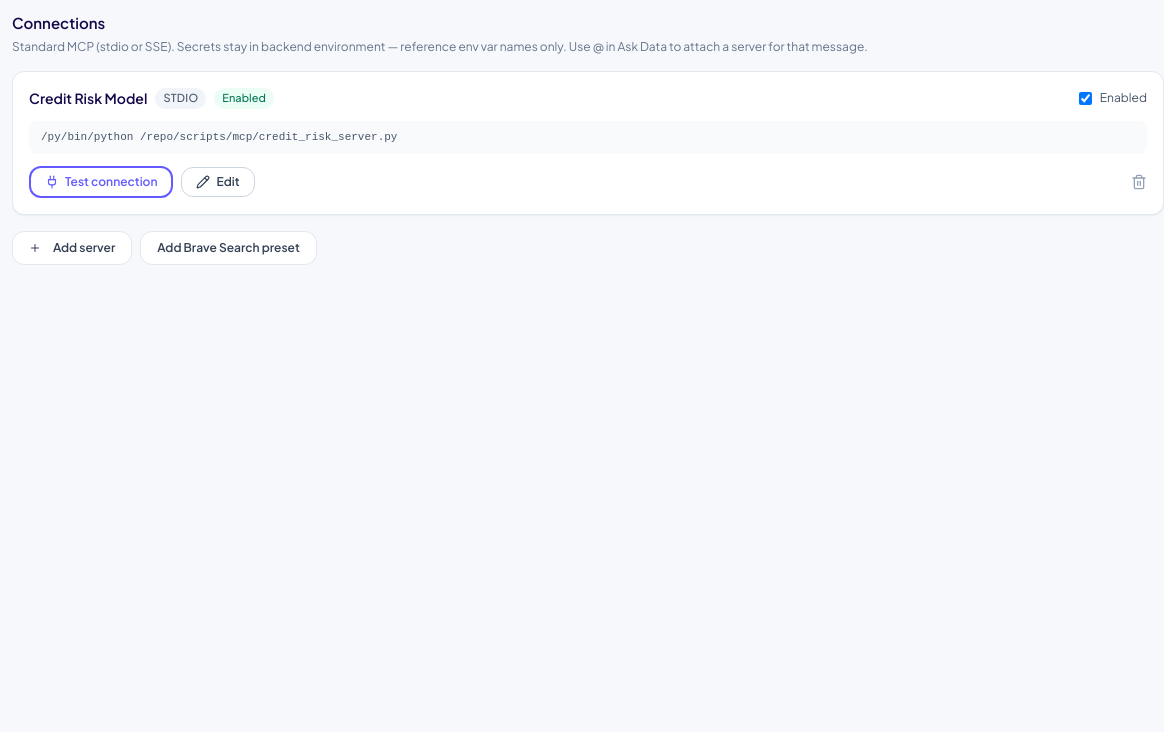
AskDataMcpSettingsPanel › cancel discards unsaved edits
The width and height of the screenshot is (1164, 732).
Expected: the element with test id "mcp-server-card" is shown, [12,71,1163,215]
Click the button "Edit". click: [218, 182]
box: [182,167,255,197]
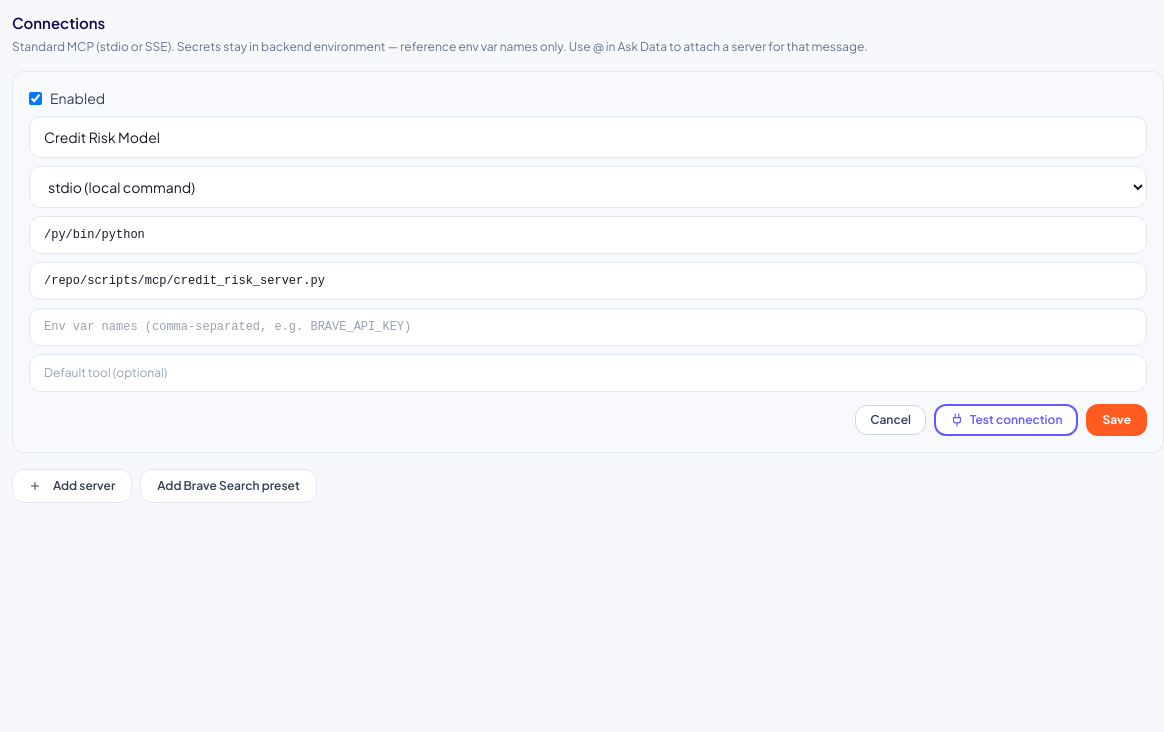
Replace the text in the 1st field with placeholder "Display name" with "Changed". click: [588, 137]
box: [29,116,1147,158]
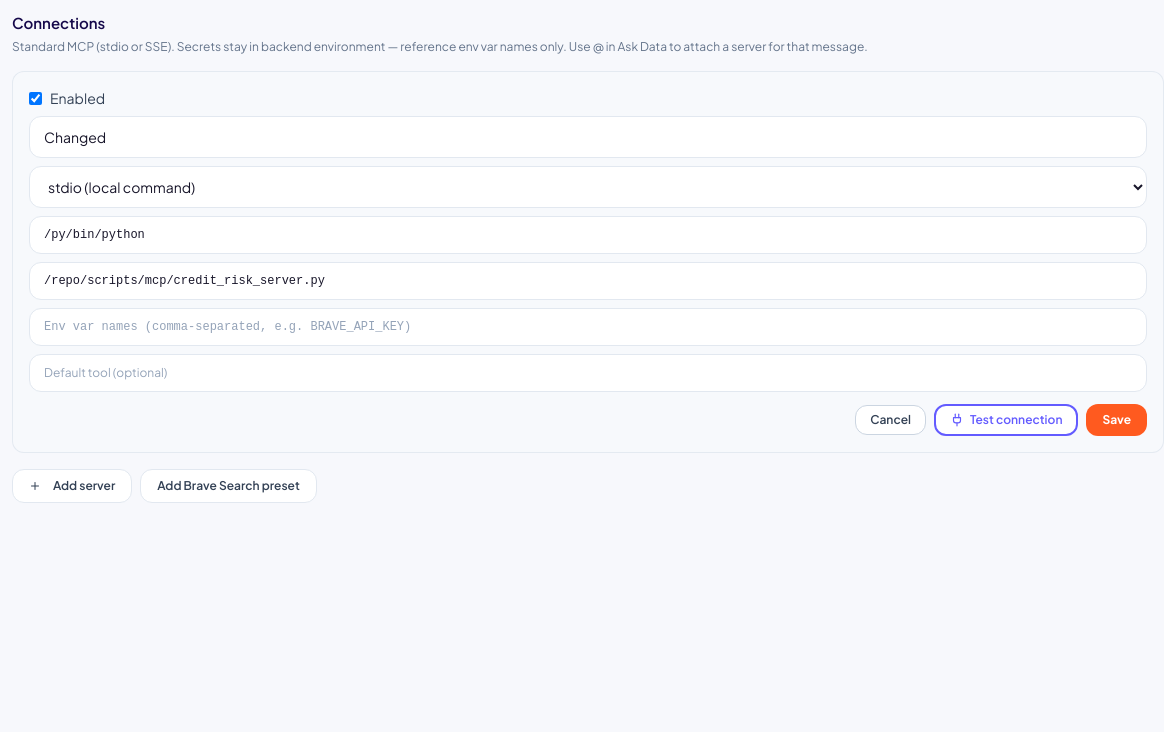
Click the button "Cancel". click: [891, 420]
box: [855,405,926,435]
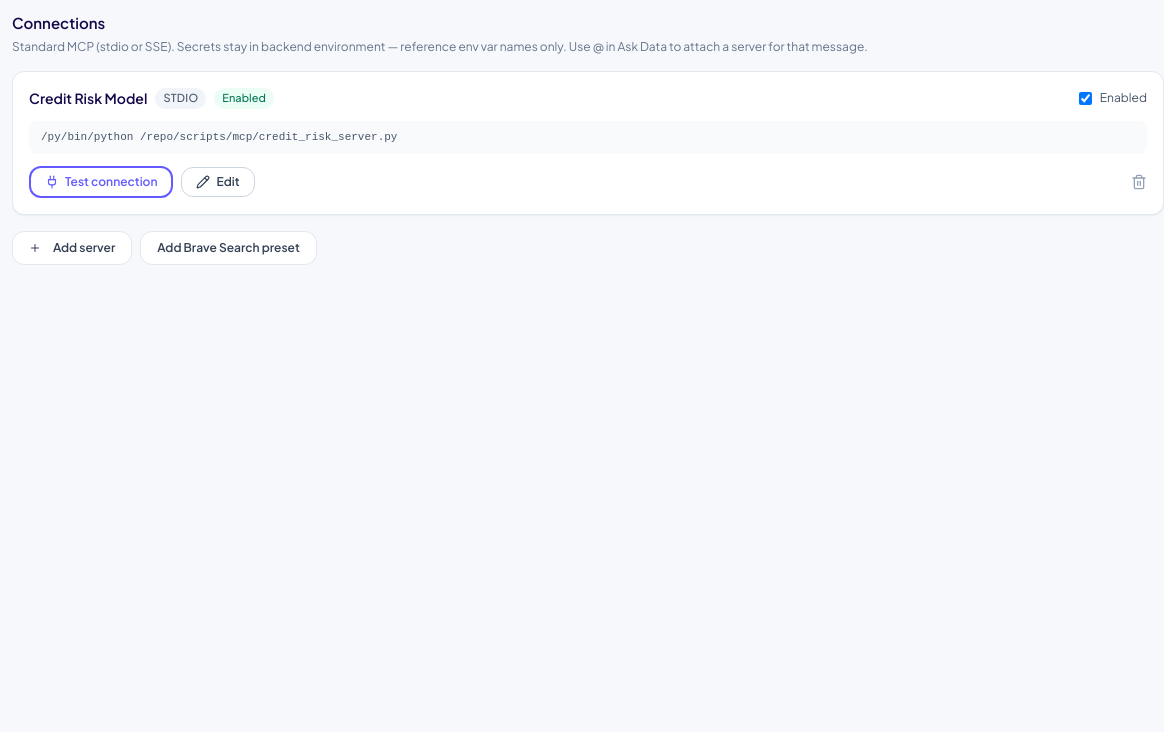
Expected: the text "Credit Risk Model" is shown, [29,88,147,108]
